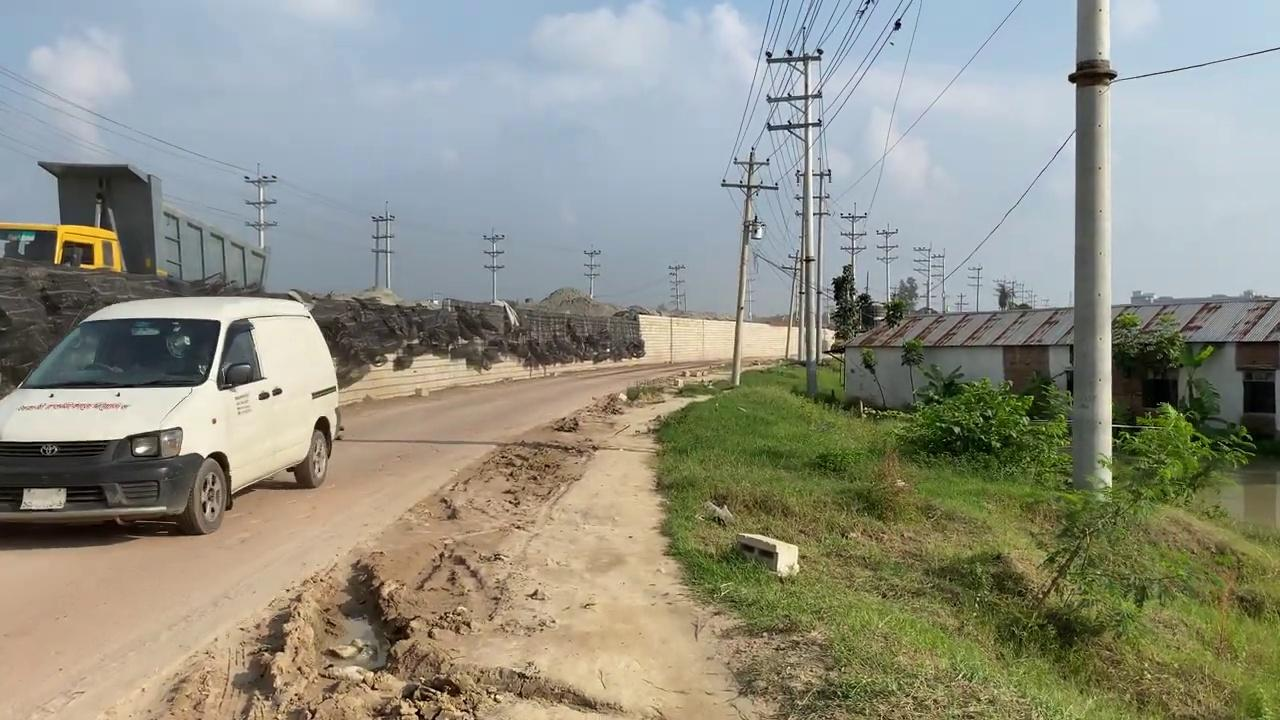Car: (0, 294, 343, 536)
Obstacle: (36, 160, 161, 275), (735, 532, 799, 578)
Pole: (1068, 0, 1115, 505), (764, 47, 824, 393)
Rickshaw: (323, 352, 768, 720)
Traffic-sign: (828, 262, 860, 344)
Tree: (0, 160, 271, 393), (0, 221, 125, 273)
